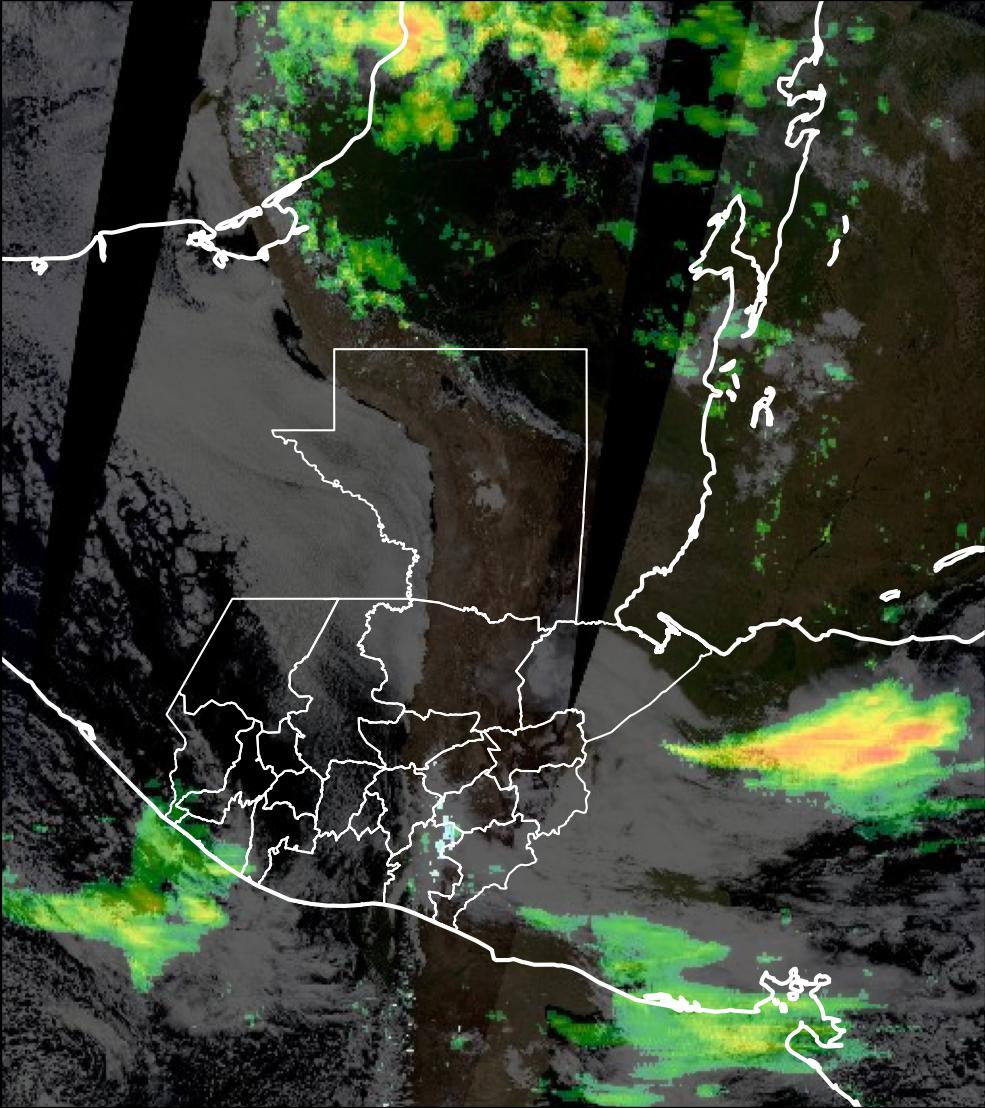precipitacion: (736, 696, 962, 776)
